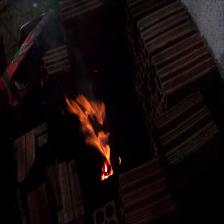fire: (66, 91, 119, 180)
